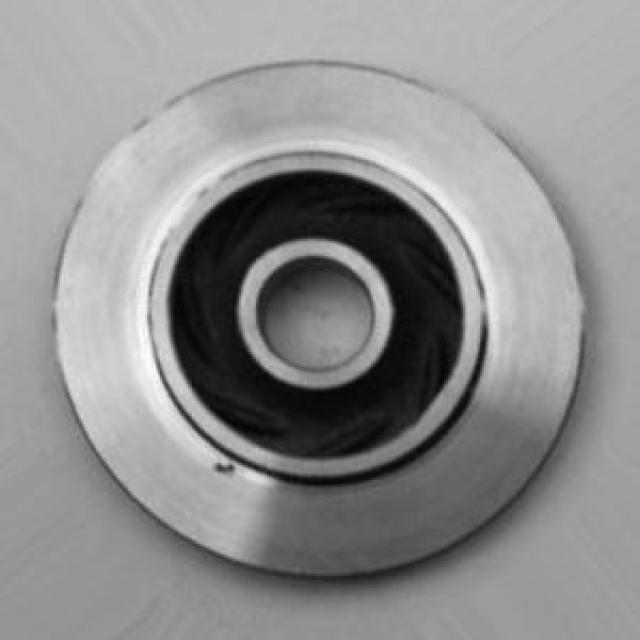Defect: (210, 453, 241, 485)
